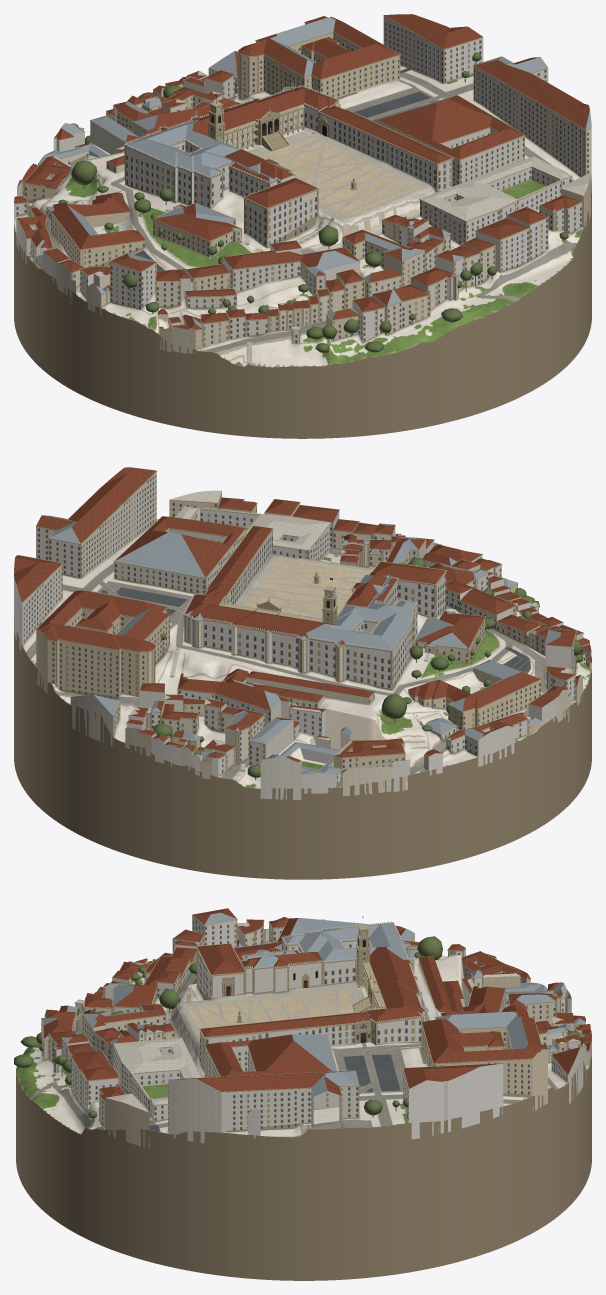
File: paco-das-escolas-rico.glb
3 views of the same model, one above another, from view 1: azimuth 30°, elevation 25°; view 2: azimuth 150°, elevation 25°; view 3: azimuth 270°, elevation 25° (orthographic).
Visible parts, largest first — view 1: Terreno, Edif_contexto, Rico_cantaria, Edif_conjunto_relation_2708767, Rico_janela, Arvores, Edif_conjunto_way_201989127, Edif_conjunto_way_51293313, Rico_reboco-monumento, Edif_conjunto_way_1315902875, Edif_conjunto_way_115574903_cantaria-torre; view 2: Terreno, Edif_contexto, Rico_cantaria, Edif_conjunto_relation_2708767, Rico_janela, Arvores, Edif_conjunto_way_201989127, Edif_conjunto_way_51293313, Rico_reboco-monumento, Edif_conjunto_way_1315902875; view 3: Terreno, Edif_contexto, Rico_cantaria, Edif_conjunto_relation_2708767, Rico_janela, Edif_conjunto_way_201989127, Edif_conjunto_way_1315902875, Arvores, Edif_conjunto_way_51293313, Rico_reboco-monumento, Edif_conjunto_way_115574903_cantaria-torre.
Boxes of the visible parts, left/top/right/bottom form: Terreno: left=14, top=65, right=591, bottom=438; Edif_contexto: left=14, top=14, right=591, bottom=354; Rico_cantaria: left=15, top=16, right=590, bottom=349; Edif_conjunto_relation_2708767: left=125, top=86, right=337, bottom=207; Rico_janela: left=16, top=22, right=588, bottom=345; Arvores: left=58, top=52, right=568, bottom=352; Edif_conjunto_way_201989127: left=320, top=105, right=451, bottom=192; Edif_conjunto_way_51293313: left=244, top=178, right=317, bottom=246; Rico_reboco-monumento: left=124, top=85, right=338, bottom=182; Edif_conjunto_way_1315902875: left=224, top=149, right=293, bottom=182; Edif_conjunto_way_115574903_cantaria-torre: left=207, top=101, right=225, bottom=141; Terreno: left=14, top=519, right=591, bottom=879; Edif_contexto: left=14, top=467, right=591, bottom=799; Rico_cantaria: left=18, top=469, right=590, bottom=786; Edif_conjunto_relation_2708767: left=185, top=575, right=416, bottom=688; Rico_janela: left=24, top=476, right=585, bottom=783; Arvores: left=153, top=543, right=583, bottom=777; Edif_conjunto_way_201989127: left=205, top=526, right=272, bottom=604; Edif_conjunto_way_51293313: left=373, top=561, right=445, bottom=618; Rico_reboco-monumento: left=183, top=571, right=417, bottom=650; Edif_conjunto_way_1315902875: left=345, top=572, right=387, bottom=607; Terreno: left=16, top=940, right=591, bottom=1280; Edif_contexto: left=41, top=908, right=591, bottom=1148; Rico_cantaria: left=41, top=908, right=586, bottom=1132; Edif_conjunto_relation_2708767: left=241, top=923, right=427, bottom=1043; Rico_janela: left=41, top=921, right=570, bottom=1130; Edif_conjunto_way_201989127: left=200, top=1012, right=369, bottom=1070; Edif_conjunto_way_1315902875: left=241, top=952, right=322, bottom=993; Arvores: left=14, top=936, right=581, bottom=1118; Edif_conjunto_way_51293313: left=197, top=943, right=244, bottom=998; Rico_reboco-monumento: left=241, top=921, right=428, bottom=1022; Edif_conjunto_way_115574903_cantaria-torre: left=356, top=925, right=370, bottom=985.
Bounding box in the file's own units: 300 × 123 × 301.
Materials: 26 (18 with a texture image).
